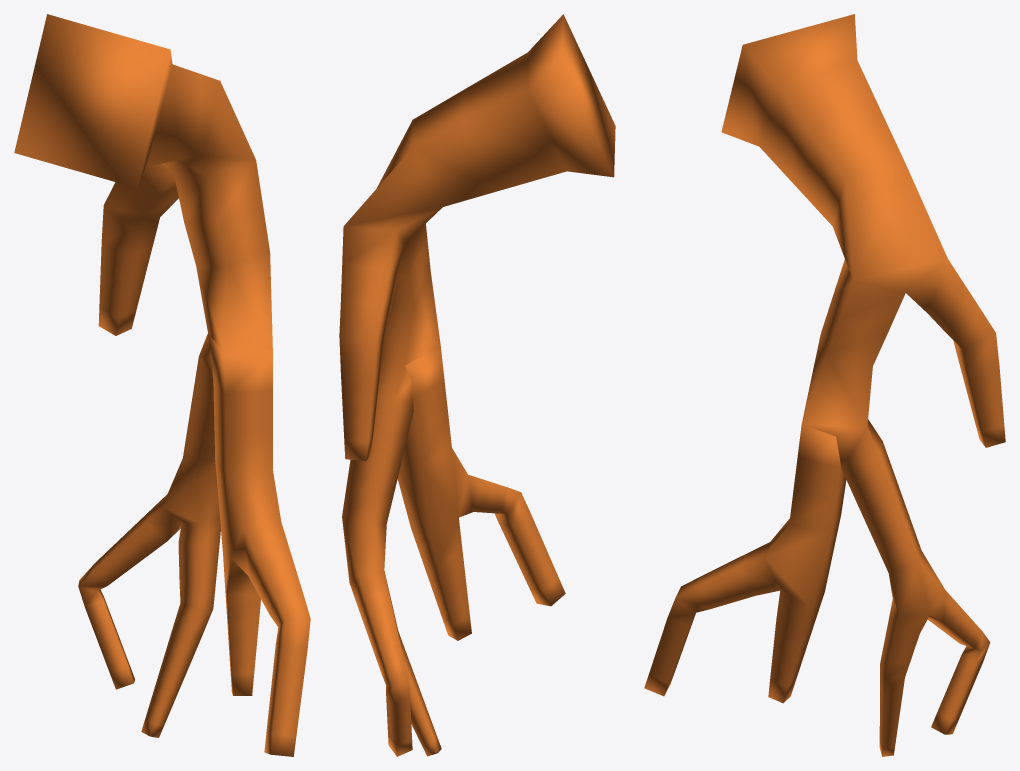
The model's file is LVL1-Roots.fbx.
3 renders of one model, left to right at view 1: azimuth 30°, elevation 25°; view 2: azimuth 150°, elevation 25°; view 3: azimuth 270°, elevation 25°, orthographic. The views are drawn at different scales.
Visible parts, largest first — view 1: Vert; view 2: Vert; view 3: Vert.
Part boxes in pixels (x1,y1,x2,y2): Vert: (14, 14, 310, 756); Vert: (339, 14, 615, 756); Vert: (644, 14, 1005, 756).
Size of the model in its own units: 218 by 632 by 301.
